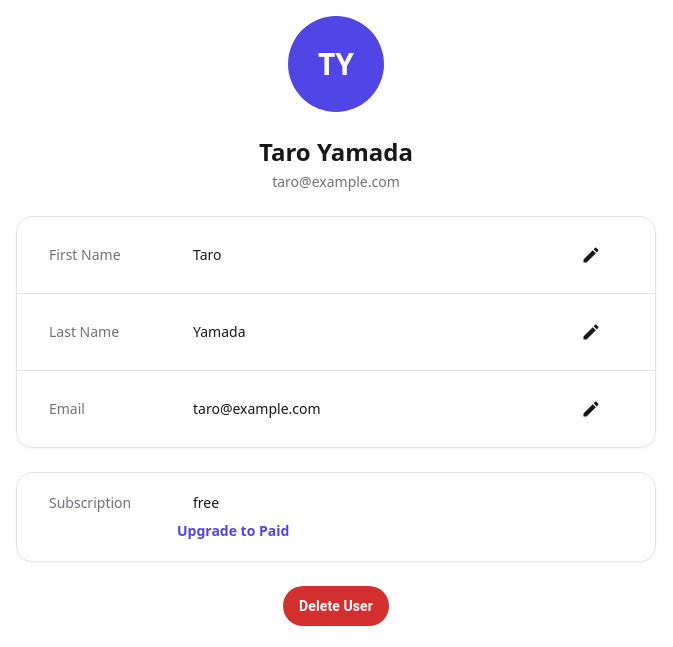
UserProfileView › turns only the selected field into an input, pre-filled with its current value
Click the button named "Edit First Name": (591, 255) [559, 237, 623, 273]
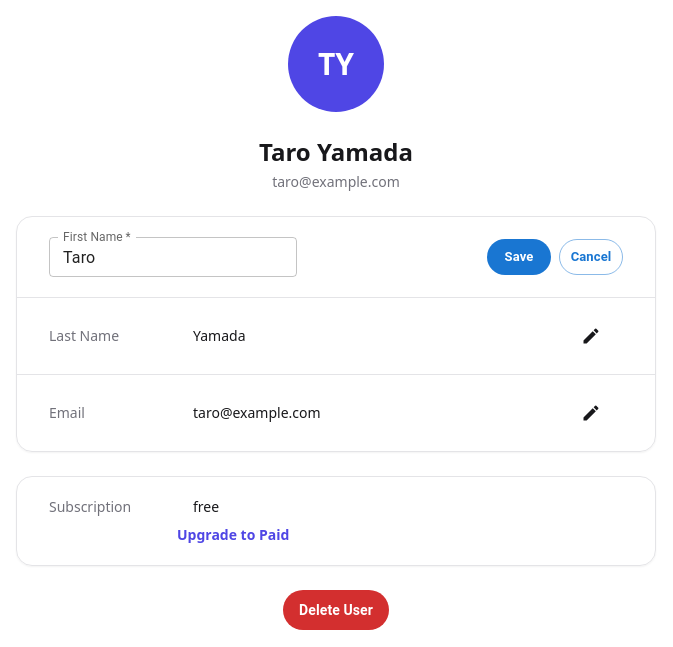
Check: the text "Yamada" is shown, box [193, 326, 246, 345]
Check: the field labelled "First Name *" holds "Taro", box [49, 237, 297, 277]
